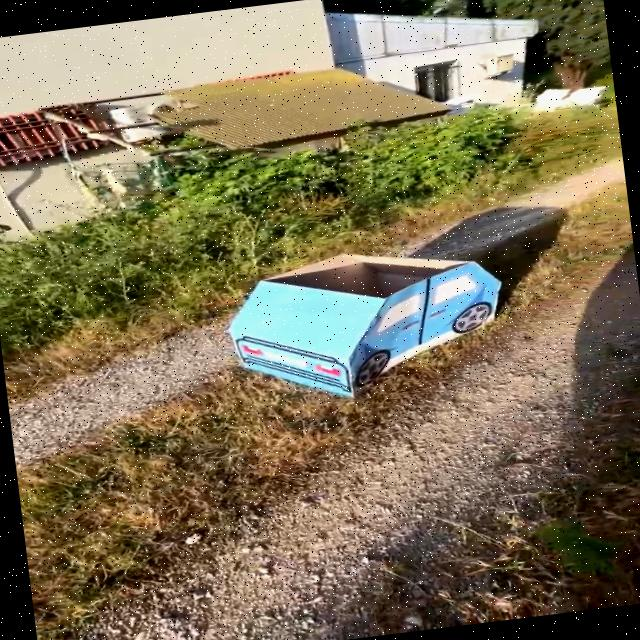blue_car: (169, 219, 564, 420)
